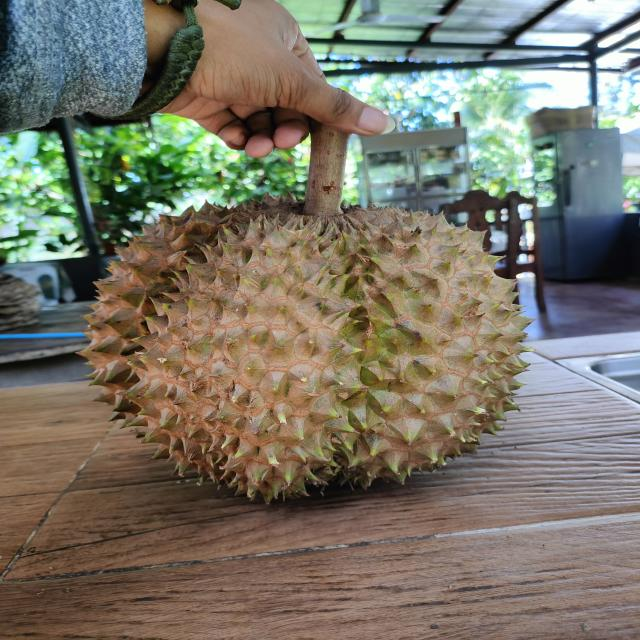mature: (64, 193, 538, 517)
